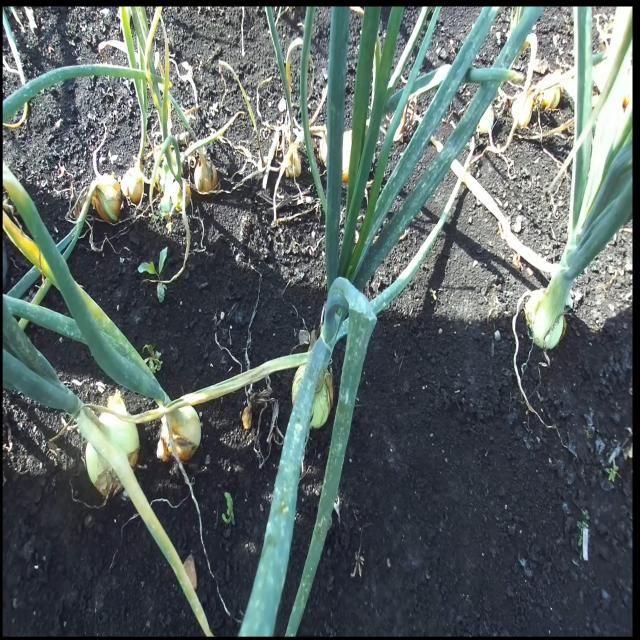onion: (84, 408, 140, 498), (291, 362, 334, 431), (157, 402, 201, 464), (92, 179, 122, 224), (194, 155, 218, 195), (120, 166, 144, 205)
